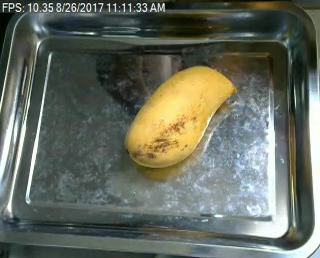Mango: (120, 63, 240, 170)
